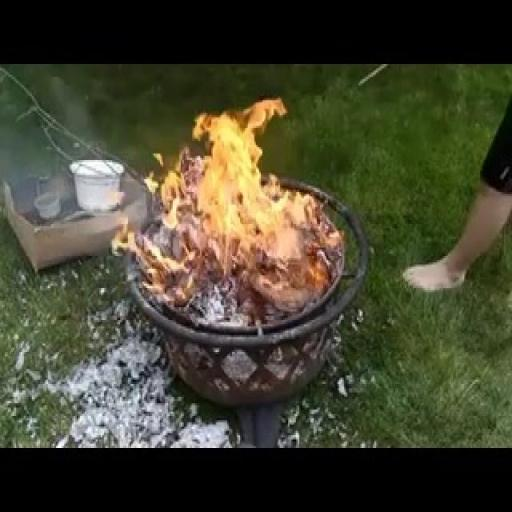smoke: (126, 66, 343, 340)
